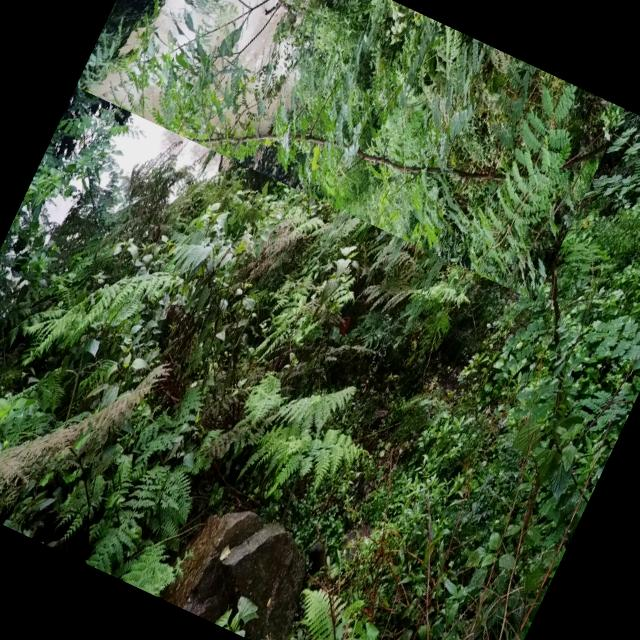Mysore-Thorn-Weed: (75, 0, 624, 301), (419, 279, 640, 635)
